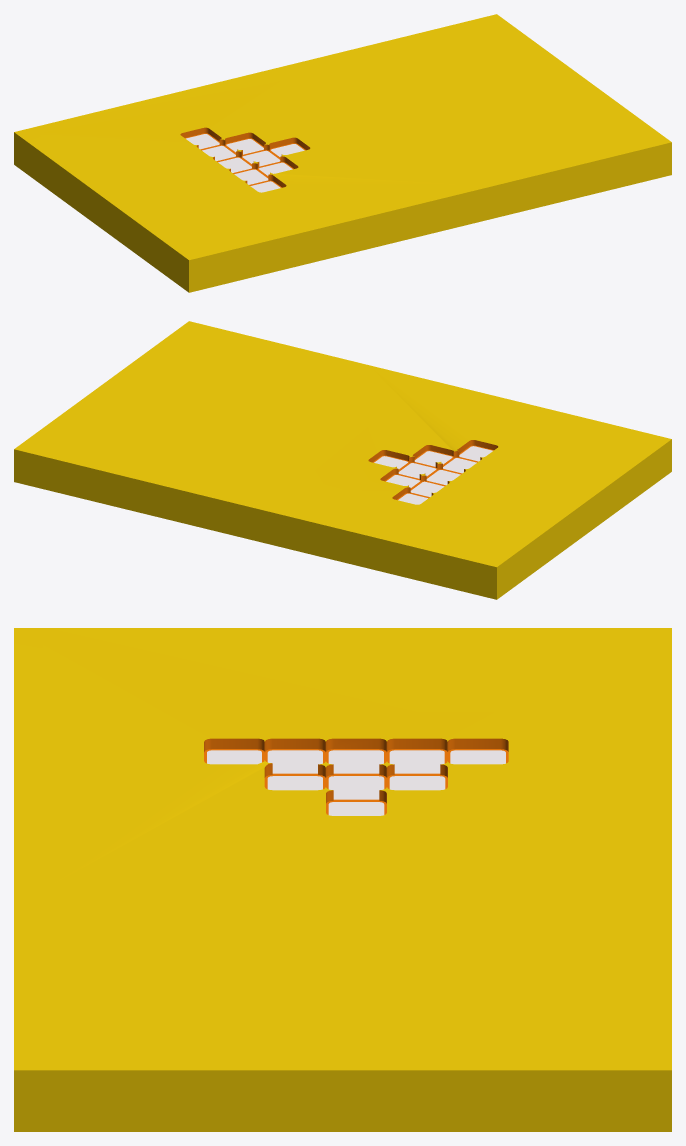
Rendered from level9.fbx.
3 renders of one model, top to bottom at view 1: azimuth 30°, elevation 25°; view 2: azimuth 150°, elevation 25°; view 3: azimuth 270°, elevation 25°, orthographic. The views are drawn at different scales.
Visible parts, largest first — view 1: Ground.012; view 2: Ground.012; view 3: Ground.012.
Part boxes in pixels (x1,y1,x2,y2): Ground.012: (14, 14, 671, 292); Ground.012: (14, 321, 671, 599); Ground.012: (14, 628, 671, 1131).
Bounding box in the file's own units: 7231 × 481 × 4542.
